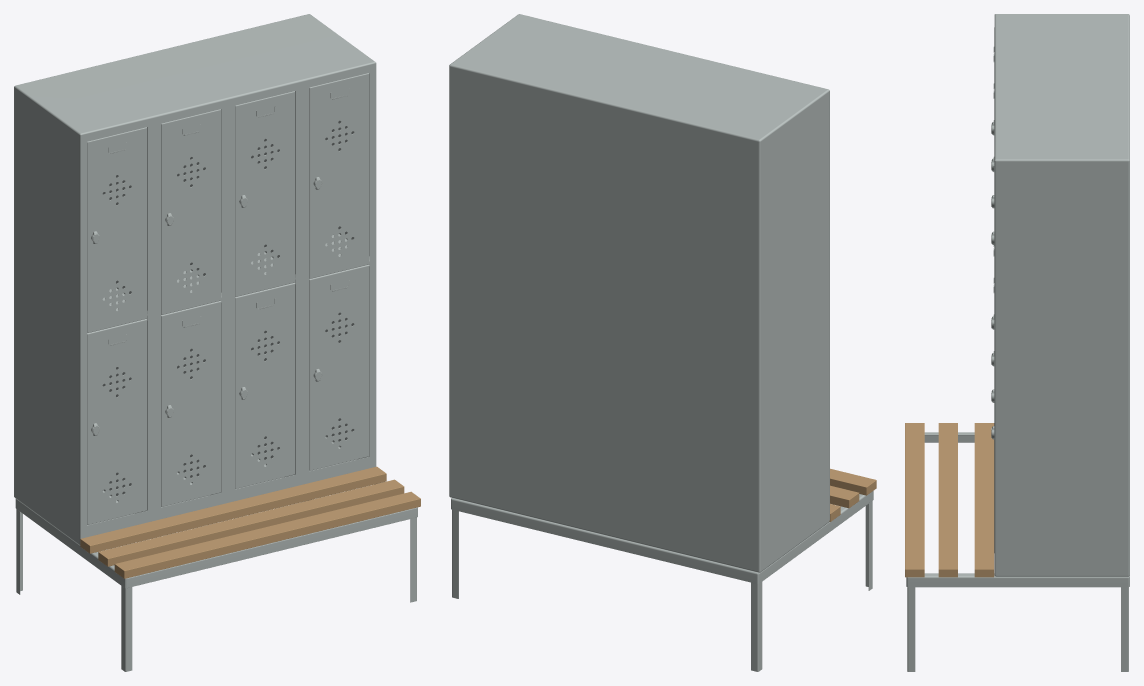
The model's file is storage_locker_double_bench_b03.glb.
The picture shows the model from 3 angles, left to right: view 1: azimuth 30°, elevation 25°; view 2: azimuth 150°, elevation 25°; view 3: azimuth 270°, elevation 25°; orthographic projection. The views are drawn at different scales.
Size of the model in its own units: 1.28 by 2.09 by 0.8303.
